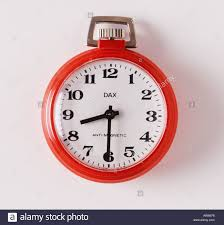alarm_clock: (40, 19, 177, 180), (50, 19, 177, 180)
